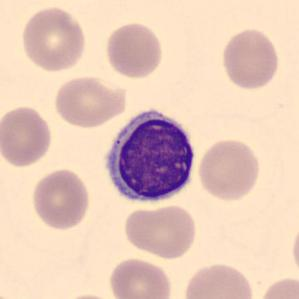Lymphocyte: (98, 103, 201, 208)
RBC: (18, 4, 89, 74), (195, 136, 263, 203), (121, 202, 198, 260), (51, 74, 129, 130), (218, 26, 282, 92), (29, 166, 92, 232), (103, 20, 165, 80), (0, 102, 55, 168), (181, 260, 257, 299), (107, 256, 175, 299), (256, 274, 298, 299), (288, 217, 299, 279)
